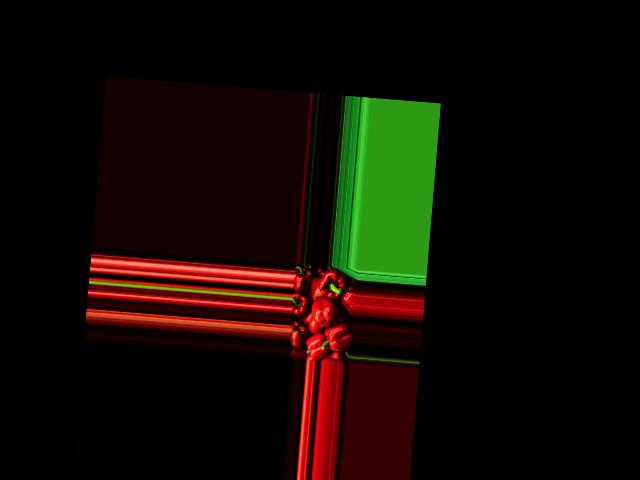bell_pepper: (293, 265, 313, 292)
